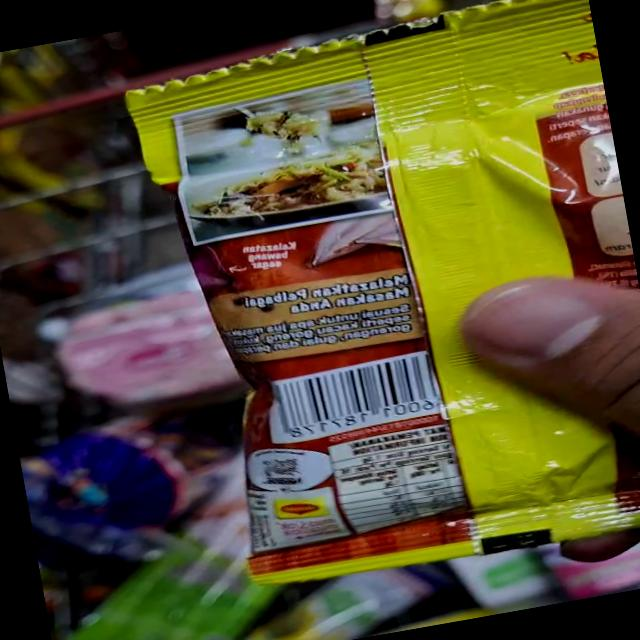Maggi Cukup Rasa: (128, 0, 640, 608)
